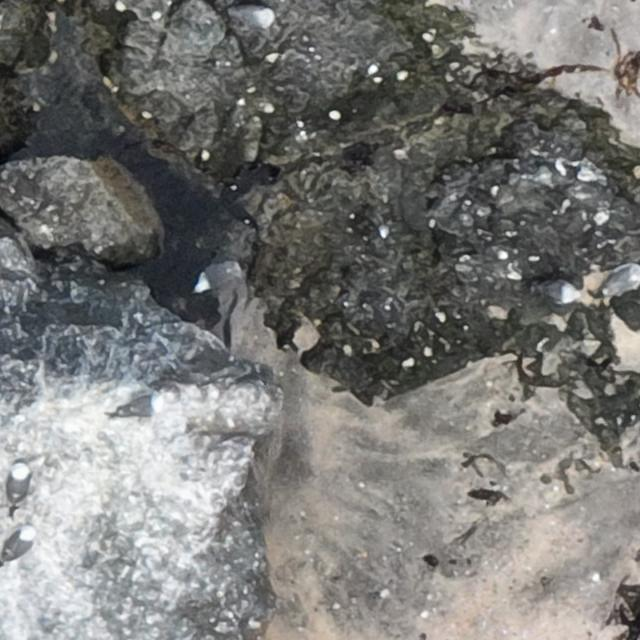umineko: (224, 4, 280, 34), (602, 265, 640, 300), (4, 530, 34, 561), (116, 396, 162, 416), (196, 264, 230, 290), (539, 281, 579, 302), (10, 465, 28, 500)
